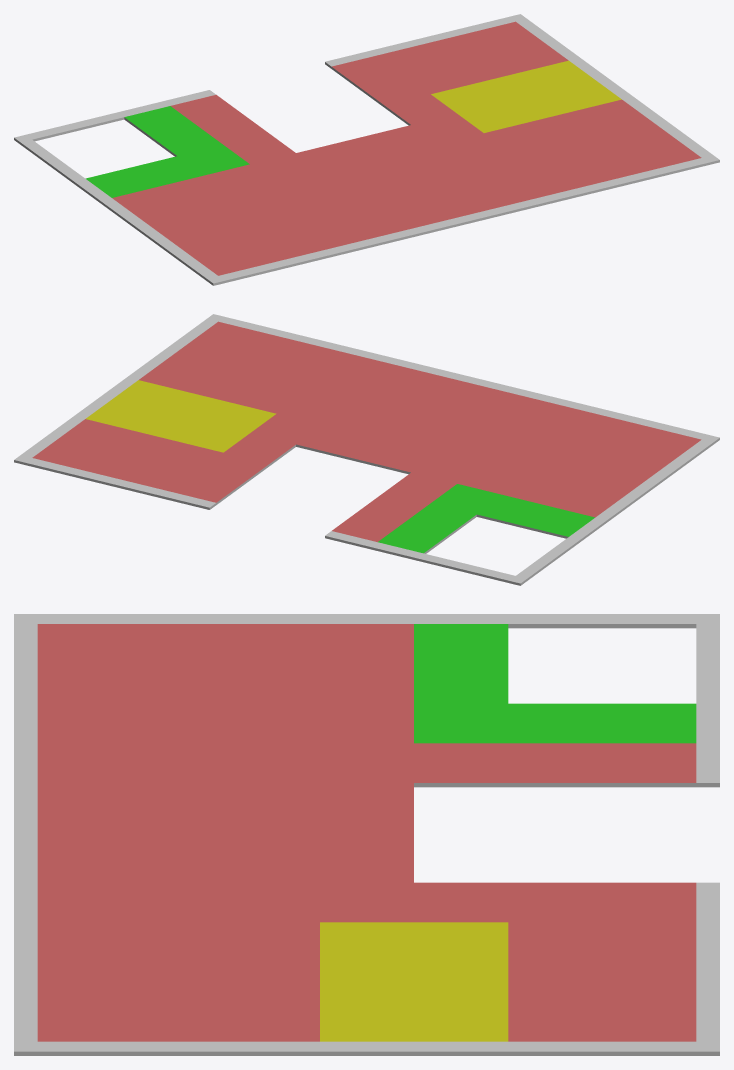
File: sol-tile.FBX
The picture shows the model from 3 angles, top to bottom: view 1: azimuth 30°, elevation 25°; view 2: azimuth 150°, elevation 25°; view 3: azimuth 270°, elevation 25°; orthographic projection. The views are drawn at different scales.
Visible parts, largest first — view 1: sol; view 2: sol; view 3: sol.
Boxes of the visible parts, box(x1,y1,x2,y2) form: sol: box(14, 14, 719, 285); sol: box(14, 314, 719, 585); sol: box(14, 614, 719, 1055).
Size of the model in its own units: 866 by 3.94 by 591.
